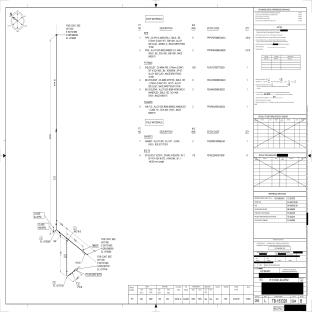elbow: (56, 224, 60, 233), (67, 271, 70, 276)
flange: (74, 269, 77, 272)
support: (82, 249, 84, 254)
weld: (55, 223, 57, 225), (56, 34, 57, 36), (59, 232, 60, 234), (70, 273, 71, 275), (66, 271, 67, 272)
